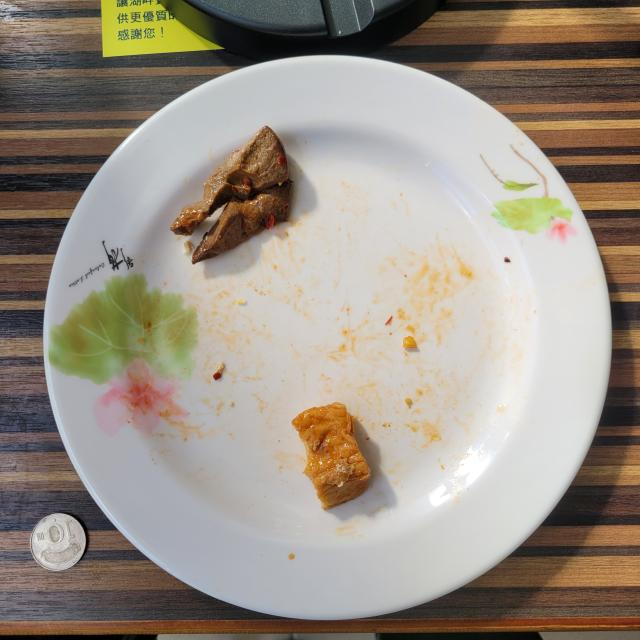coin: (30, 514, 86, 571)
creamy tofu: (291, 402, 370, 510)
pig liver: (170, 126, 294, 264)
